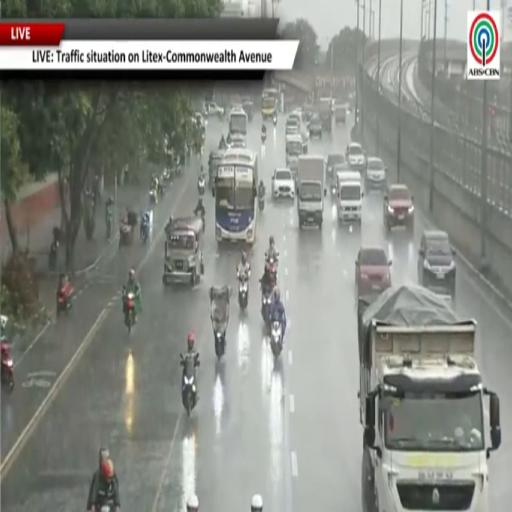bus: (214, 150, 258, 245), (229, 107, 248, 136), (261, 89, 279, 119)
car: (418, 230, 455, 297), (355, 247, 391, 296), (384, 184, 414, 232), (272, 168, 295, 199), (365, 157, 386, 190), (346, 142, 365, 171), (327, 153, 345, 175), (309, 114, 322, 138), (205, 102, 224, 118), (228, 134, 246, 149), (243, 99, 253, 121), (334, 105, 346, 123), (287, 111, 301, 125), (286, 123, 299, 135)
jeepney: (163, 217, 203, 285), (209, 150, 224, 188)
motorcycle: (180, 355, 199, 417), (0, 342, 13, 392), (57, 282, 74, 315), (270, 322, 282, 358), (125, 293, 135, 333), (261, 290, 271, 325), (239, 276, 248, 311), (49, 240, 59, 271), (215, 331, 225, 359), (268, 259, 276, 287), (141, 218, 149, 244), (258, 186, 266, 211), (95, 502, 115, 512), (106, 207, 112, 239), (196, 211, 205, 232), (198, 176, 206, 197), (162, 168, 171, 184), (149, 187, 157, 205), (258, 198, 264, 211), (261, 132, 266, 142), (273, 114, 277, 126)
truck: (358, 285, 501, 511), (297, 155, 326, 228), (318, 98, 332, 133)
